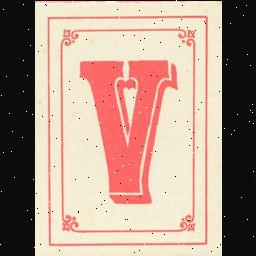v: (74, 56, 182, 210)
